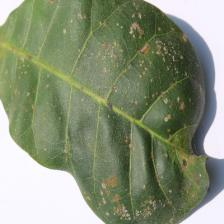red rust: (0, 0, 210, 223)
